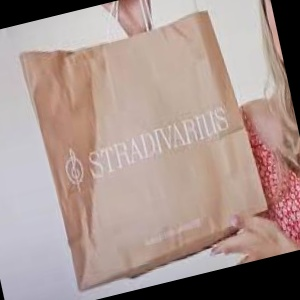stradivarius: (176, 27, 280, 160)
